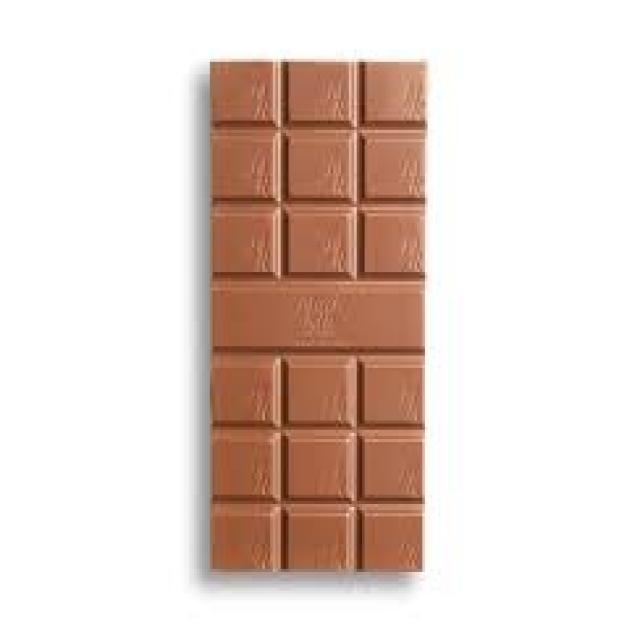Chocolate: (210, 57, 425, 579)
